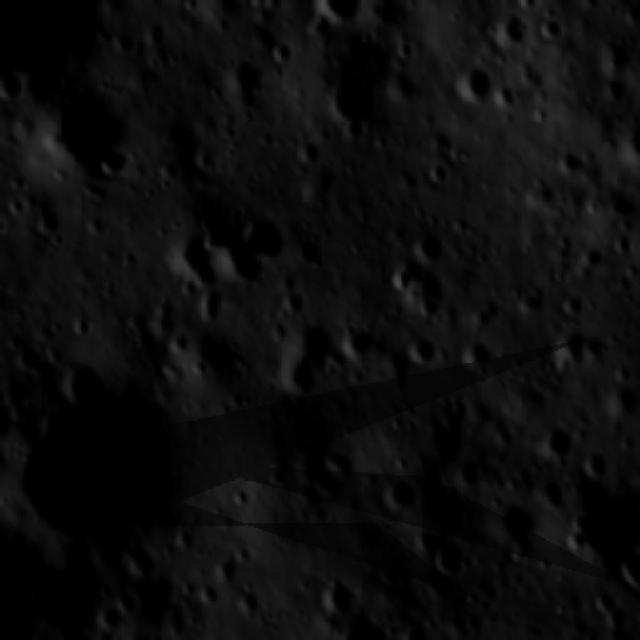crater: (21, 384, 164, 545), (24, 80, 113, 186), (317, 60, 400, 132), (451, 341, 494, 381), (454, 62, 494, 104), (383, 470, 412, 521), (411, 226, 449, 263), (614, 550, 640, 604), (344, 325, 368, 367), (334, 626, 397, 640), (621, 130, 640, 164)
